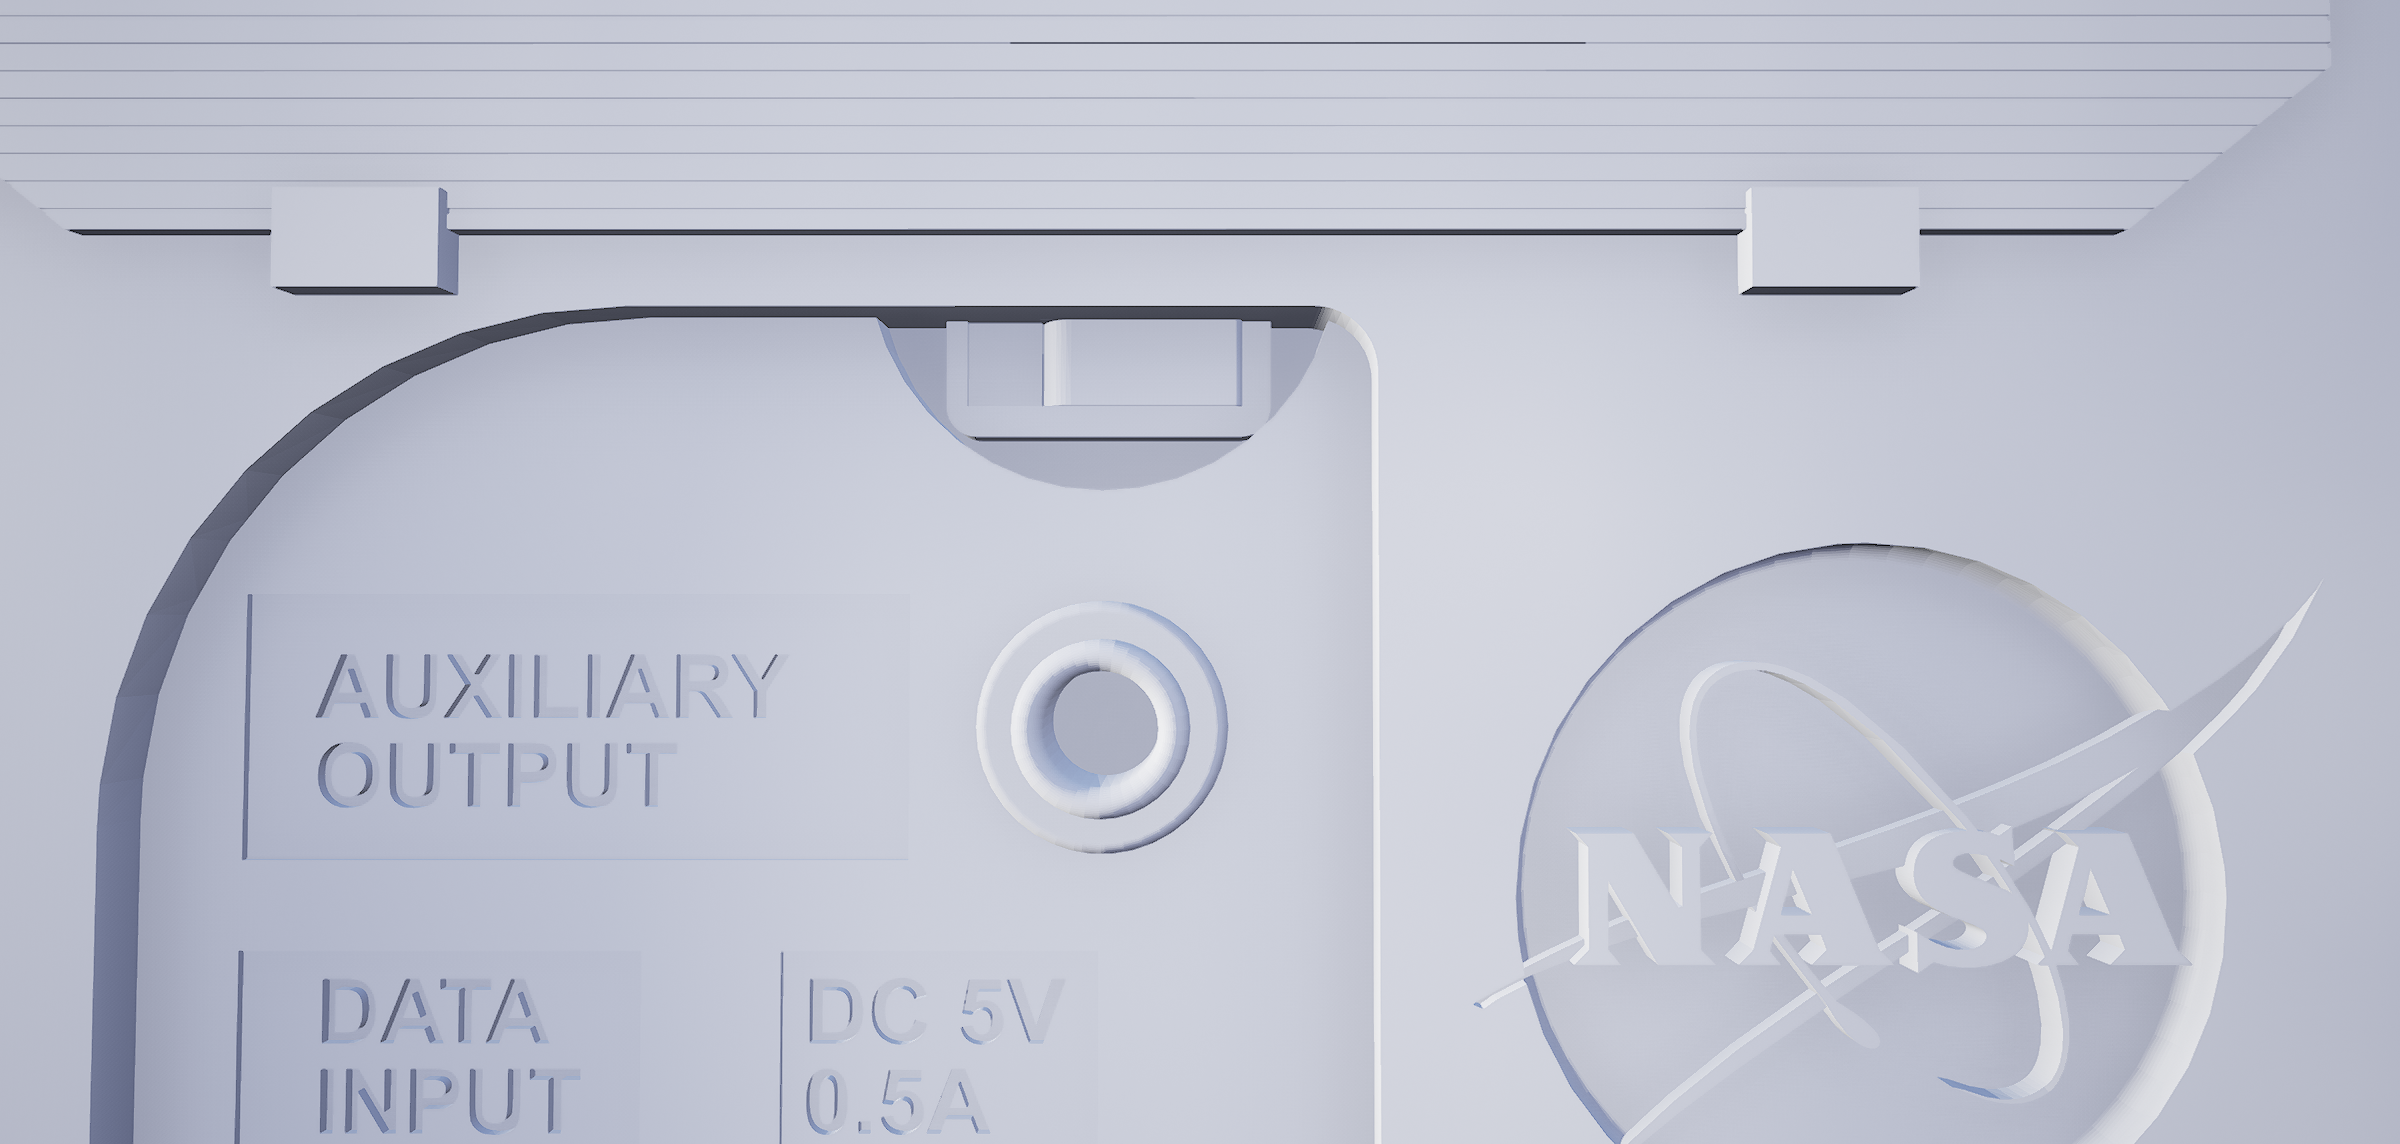aux: (947, 574, 1238, 882)
